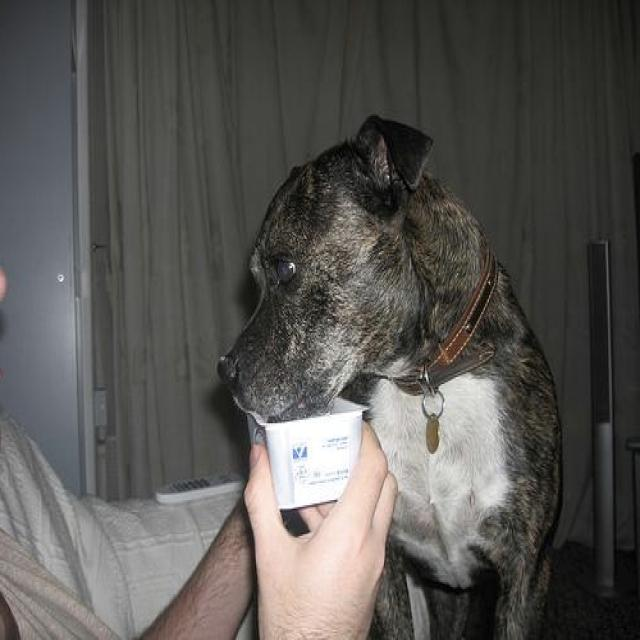staffordshire_bullterrier: (214, 110, 564, 638)
